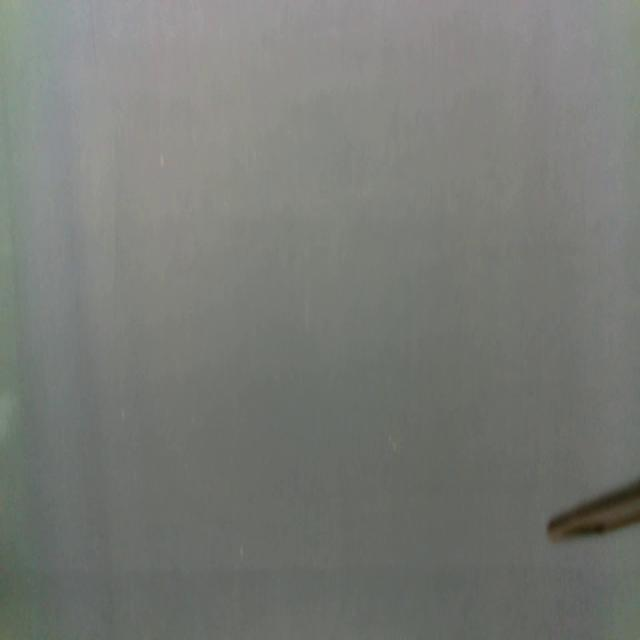color bleeding: (0, 548, 630, 624)
